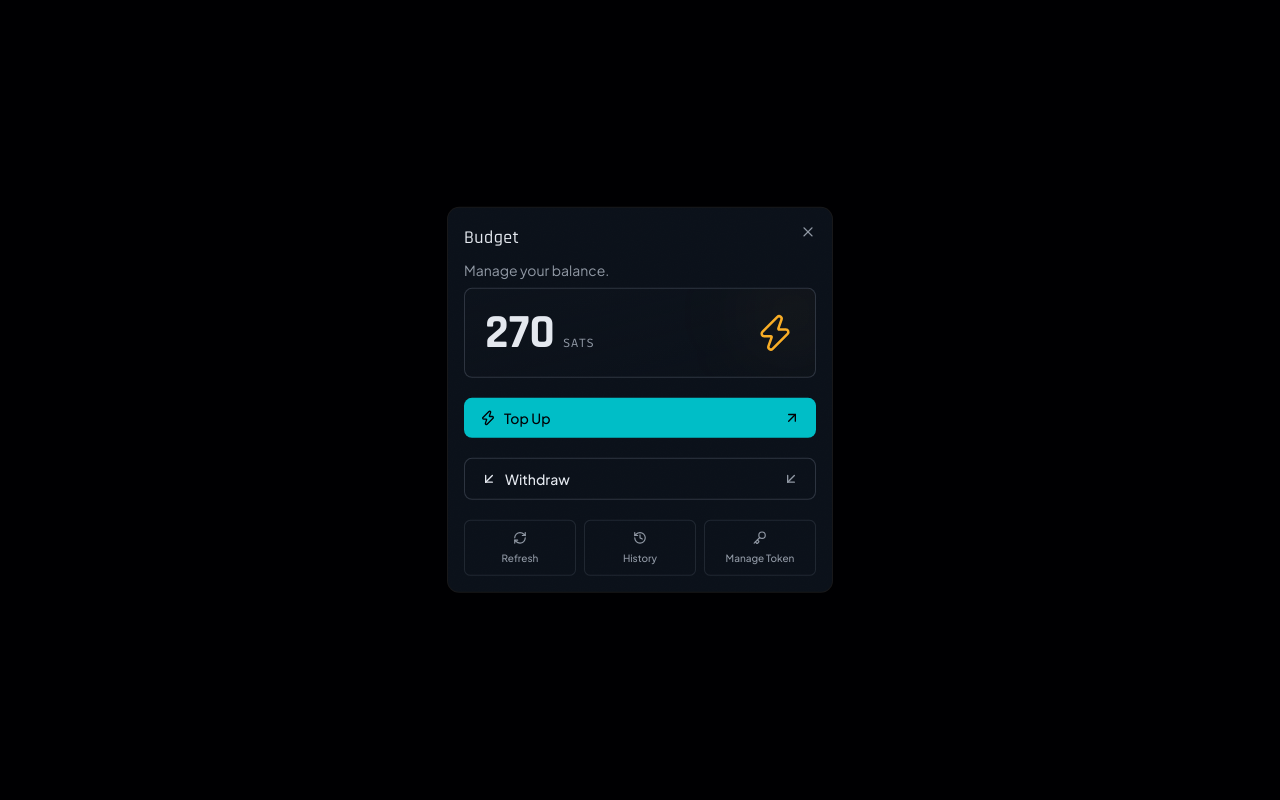
Test: BudgetModal success screen delta › shows +N sats added after amount-picker top-up (Sphinx/WebLN path)
# Should start at balance step — click Top Up → goes to amount step
Click the button "Top Up" at (527, 418), box [464,398,816,438]
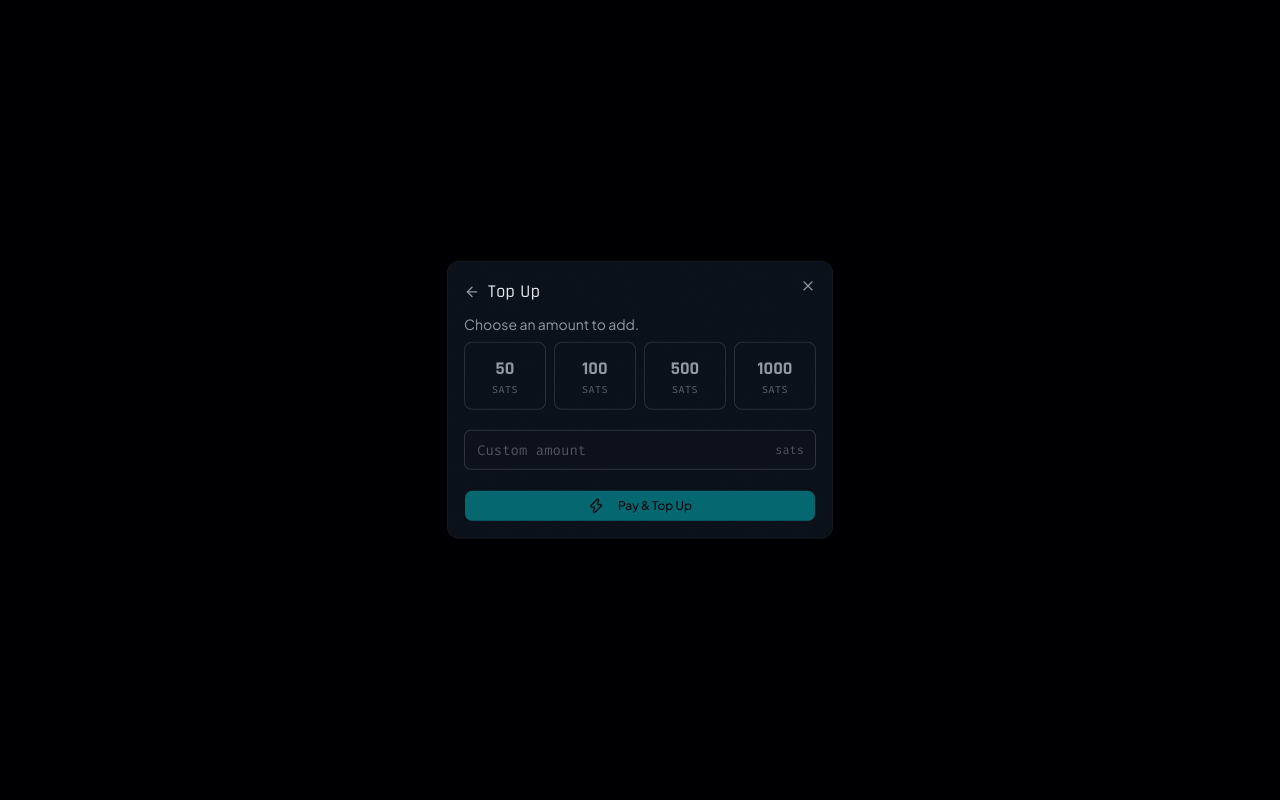
Expected: the field with placeholder "Custom amount" is shown
# Enter custom amount 200 via input
Type "200" into the field with placeholder "Custom amount" at (640, 450), box [464,430,816,470]
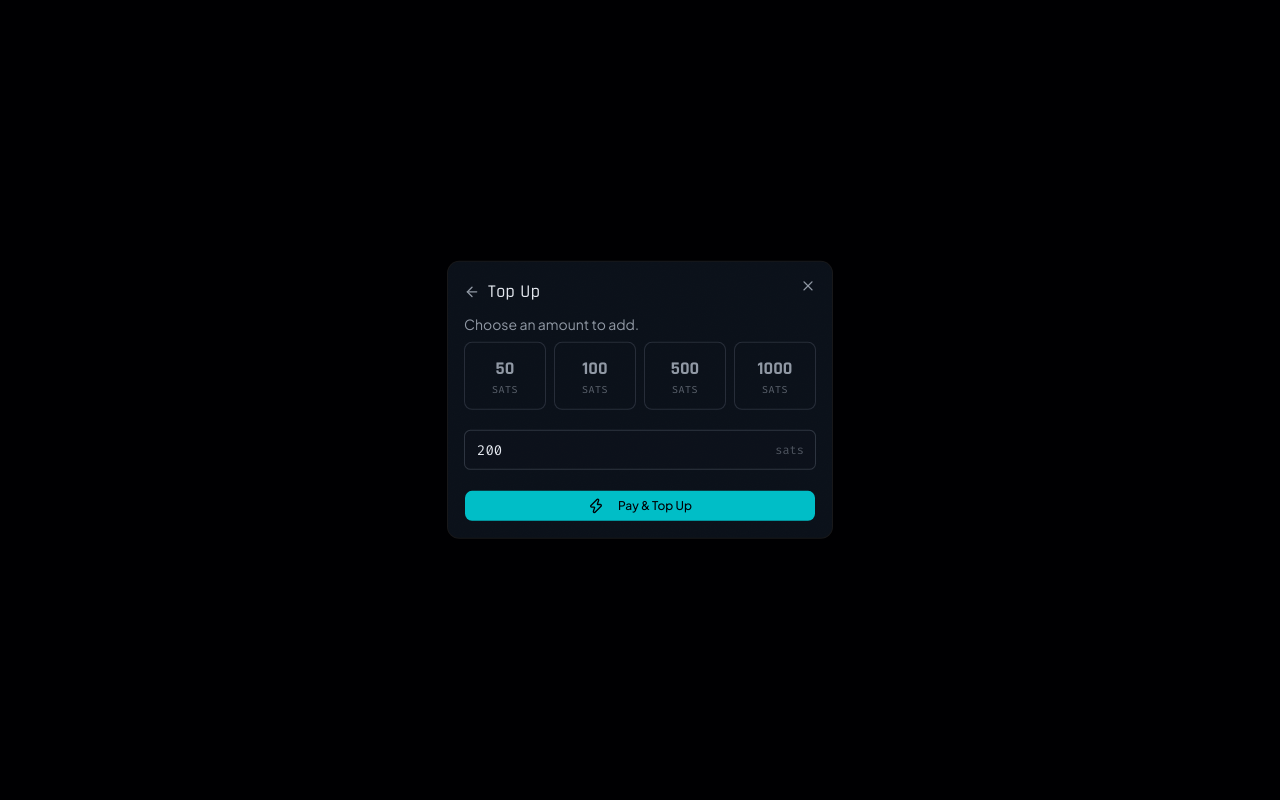
# Click Pay & Top Up
Click the button "Pay & Top Up" at (640, 506), box [464,490,816,522]
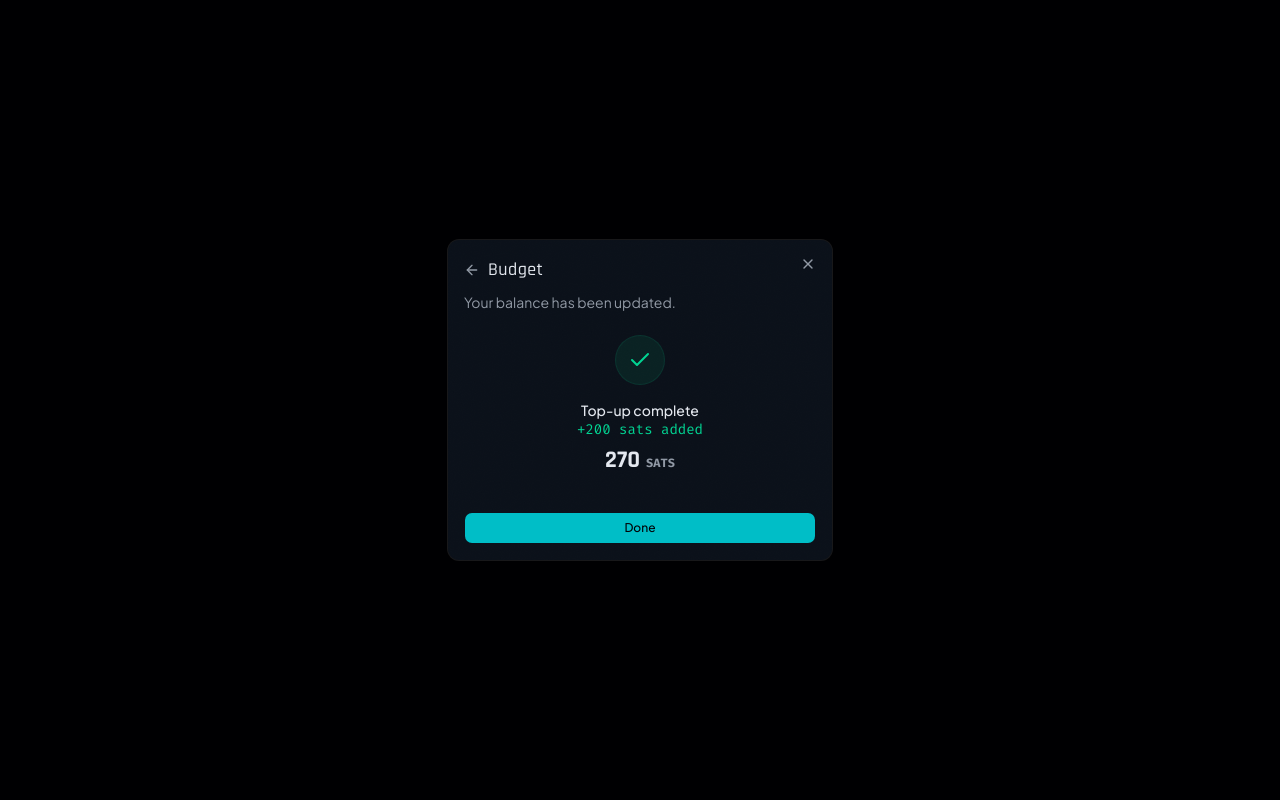
Expected: the text "Top-up complete" is shown, [577,400,703,420]
Expected: the text "+200 sats added" is shown, [577,420,703,440]
Expected: the text "270sats" is shown, [605,445,675,475]
